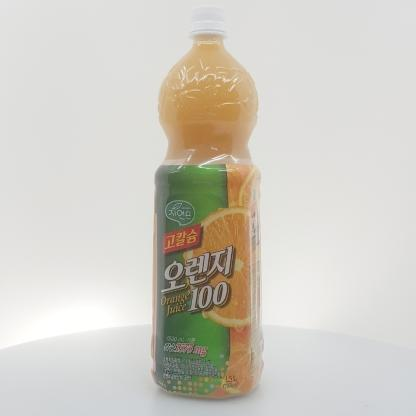--------1-5L: (151, 5, 264, 399)
